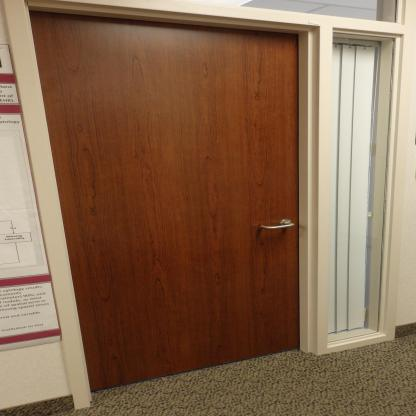door: (36, 17, 300, 346)
lever: (260, 220, 294, 232)
